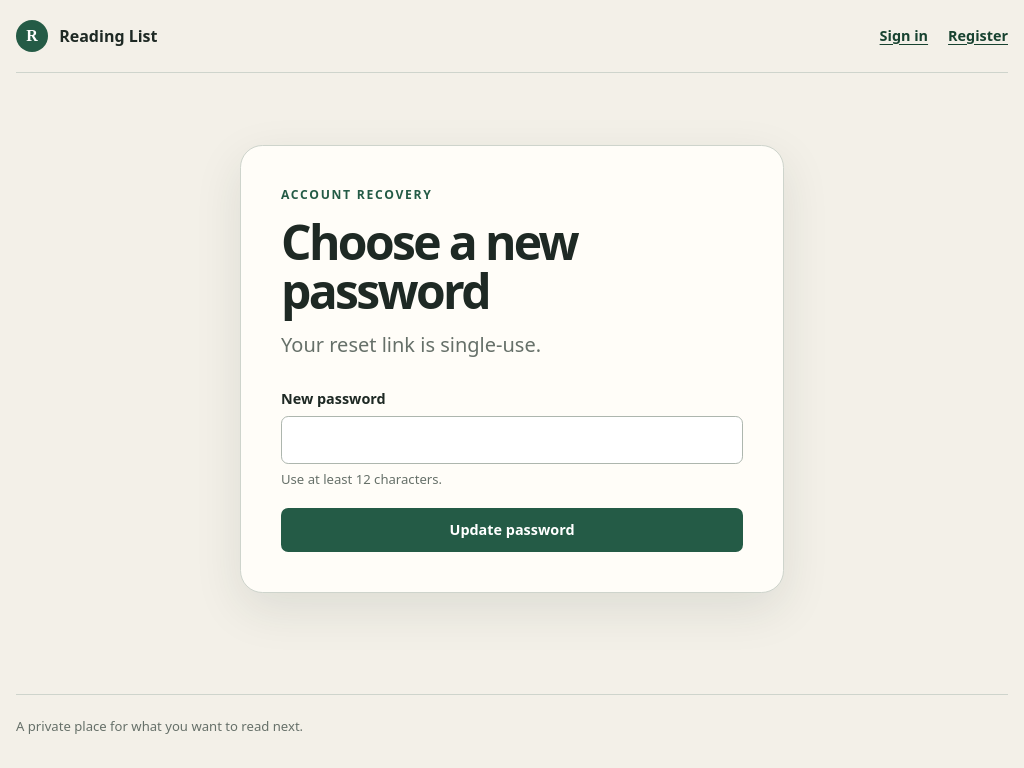
Test: account lifecycle › scrubs a reset fragment before sending the new password and never persists the token
Expected: the heading "Choose a new password" is shown, [281,208,577,323]
In the password field labelled "New password": {"x": 512, "y": 440} [281,416,743,464], type "the replacement password"
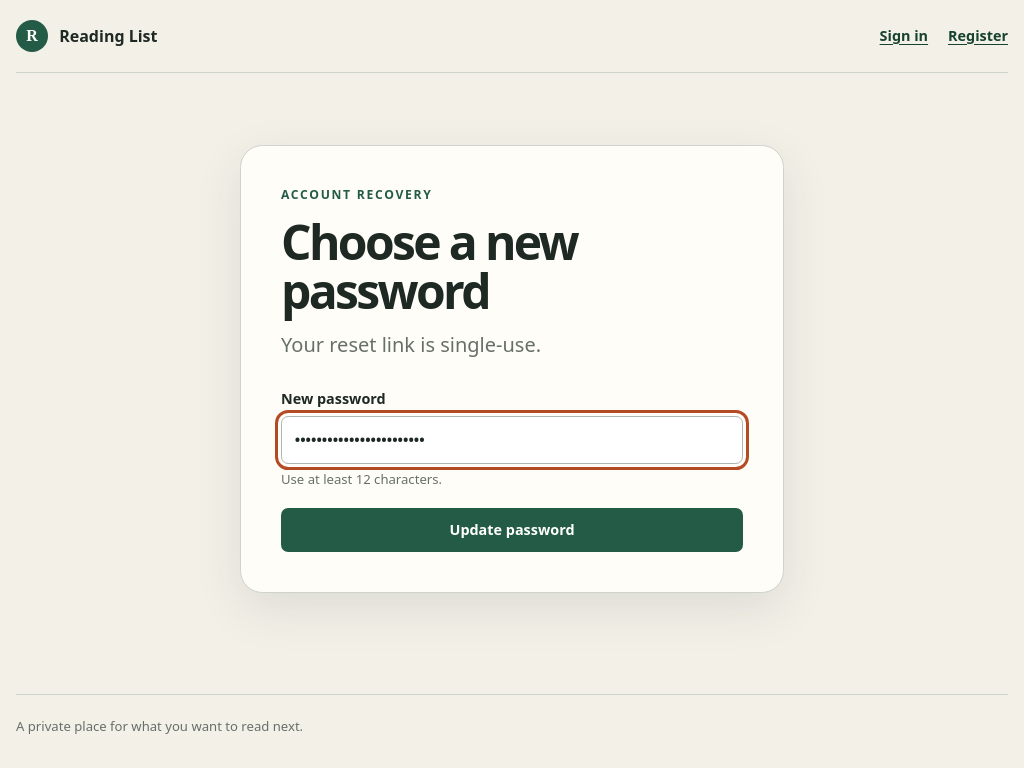
Click the button "Update password": {"x": 512, "y": 530} [281,508,743,552]
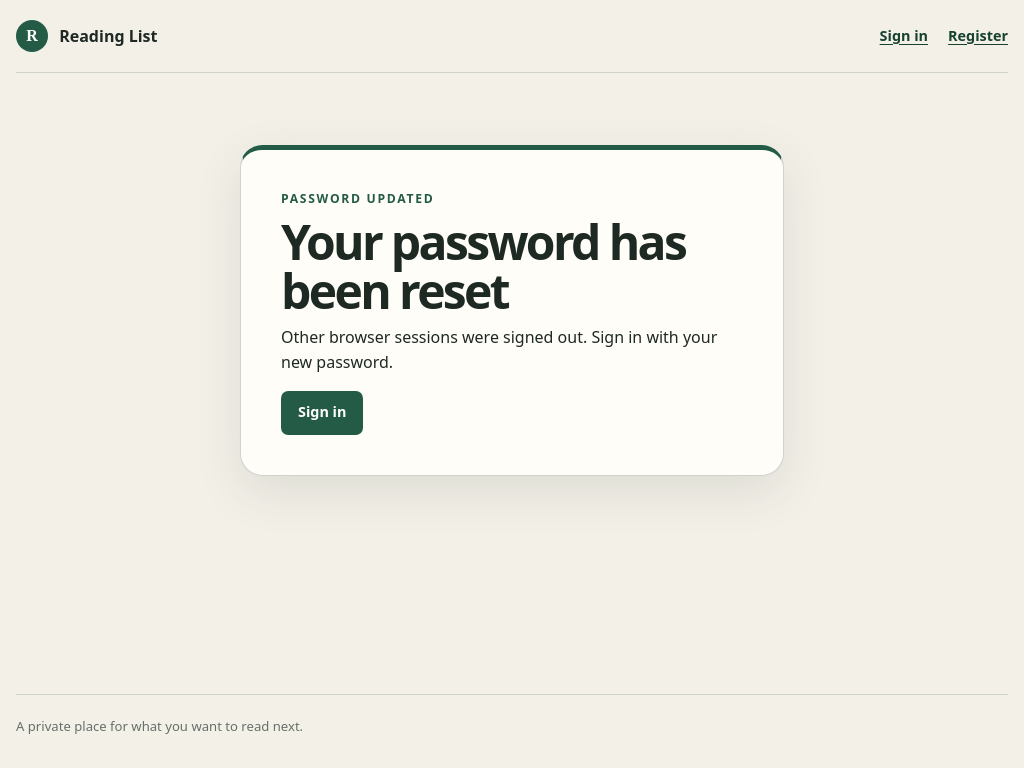
Now the heading "Your password has been reset" is shown, box [281,216,743,315]
